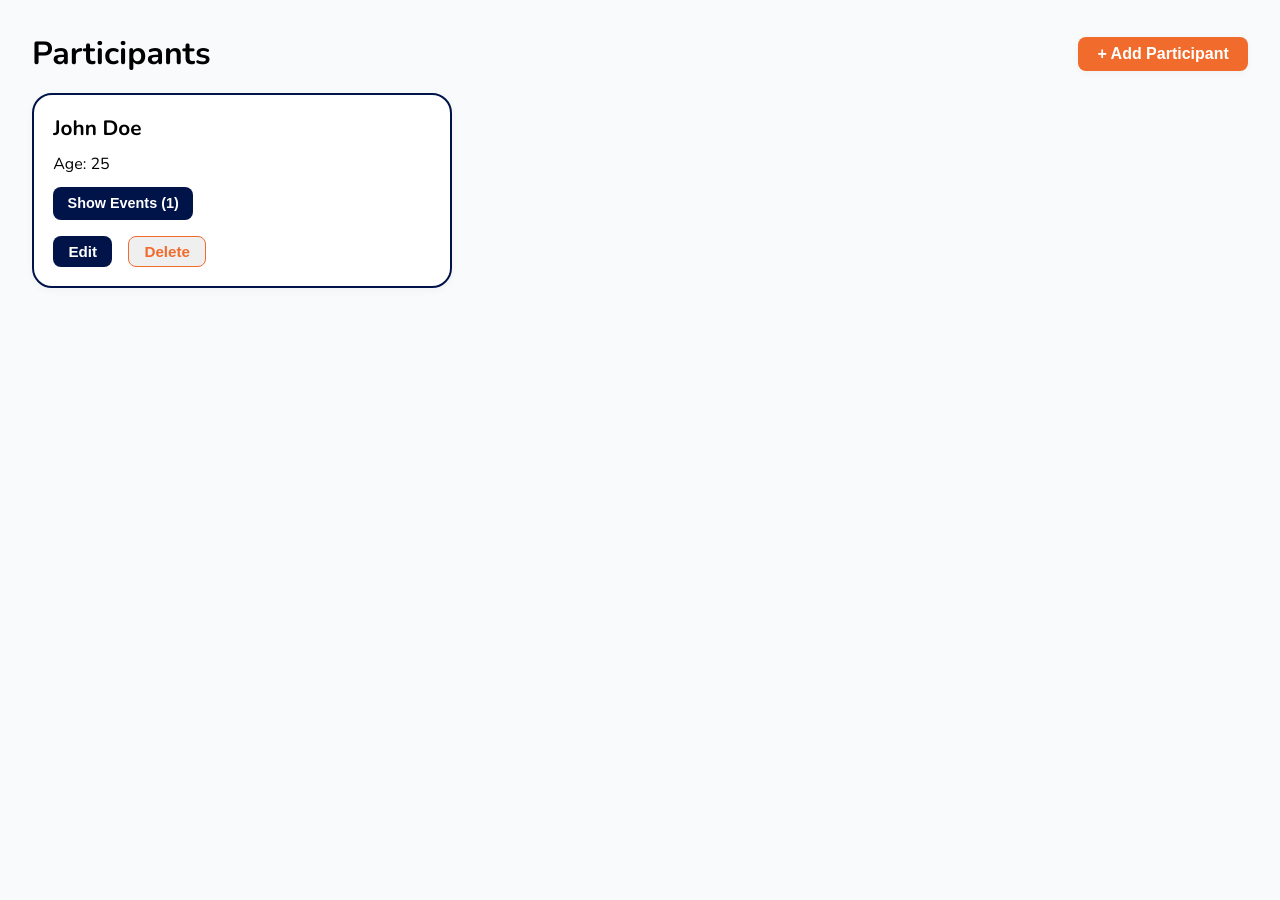
Scenario: ParticipantsHome Component - Unit Tests › Events Modal Functionality › should close events modal when close button is clicked
Open modal
Click the button "Show Events (1)" at (123, 203), box 53,187 -> 193,220
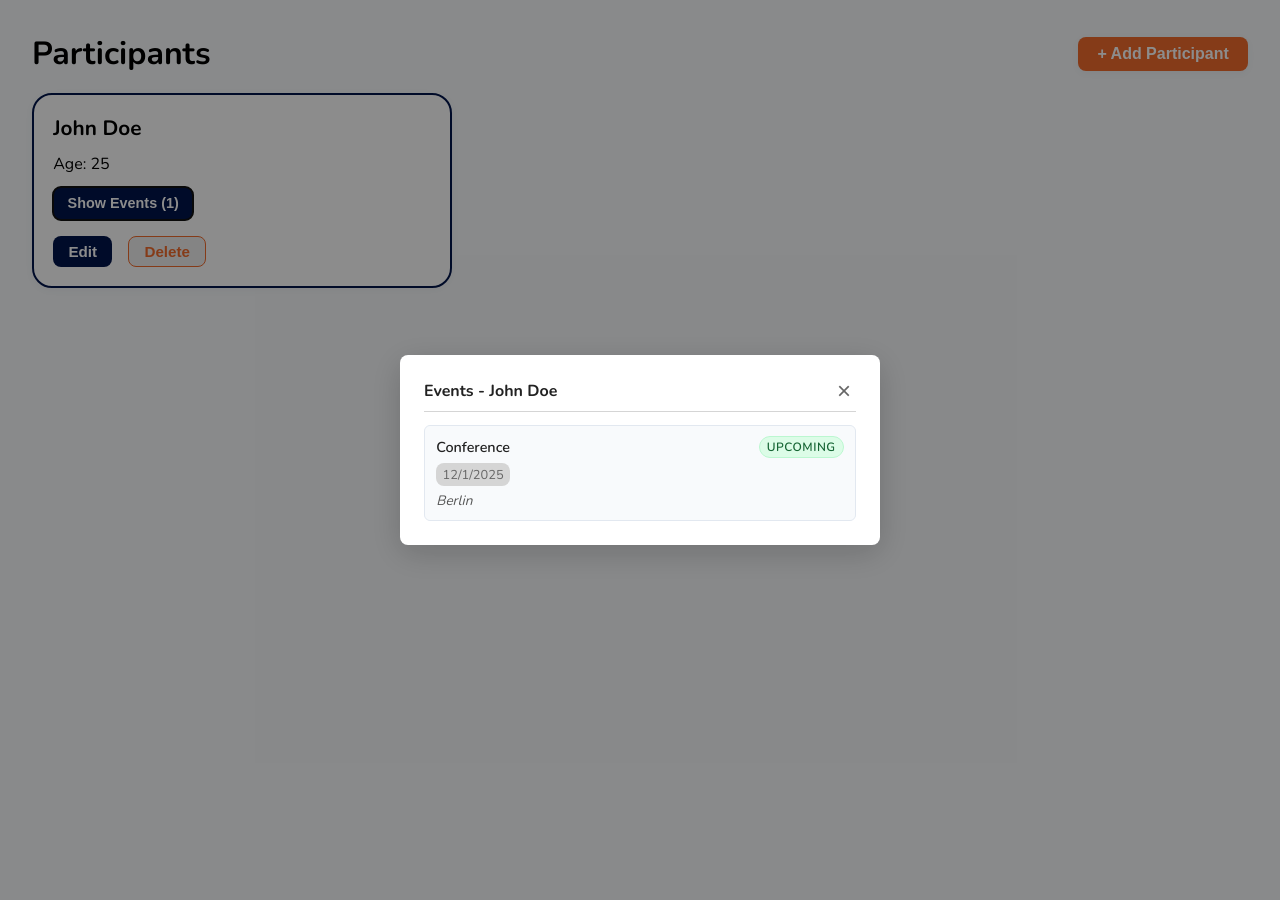
Expected: the heading "Events - John Doe" is shown, 424,380 -> 557,402
Close modal
Click the button "×" at (844, 391), box 832,379 -> 856,403
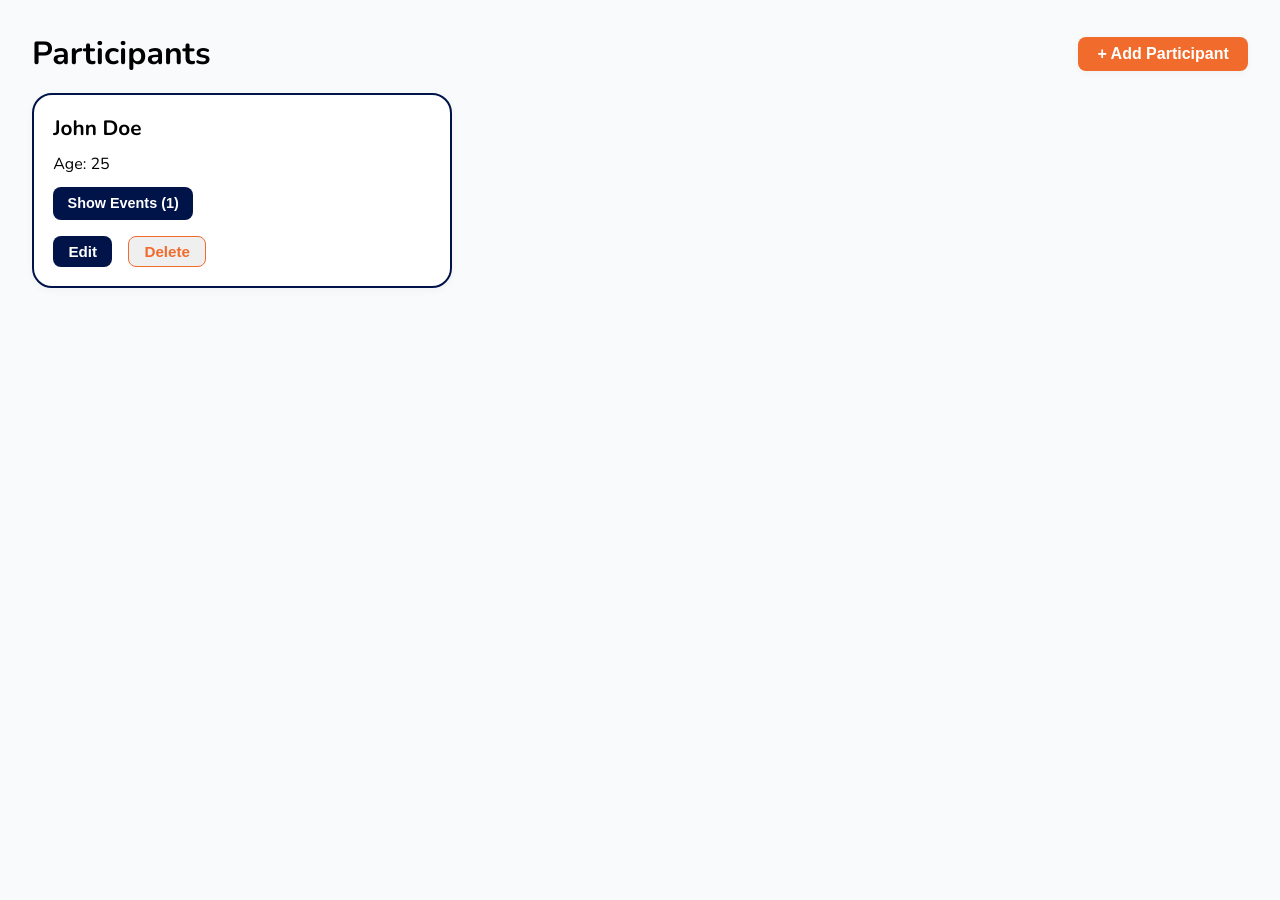
Expected: the heading "Events - John Doe" is gone
